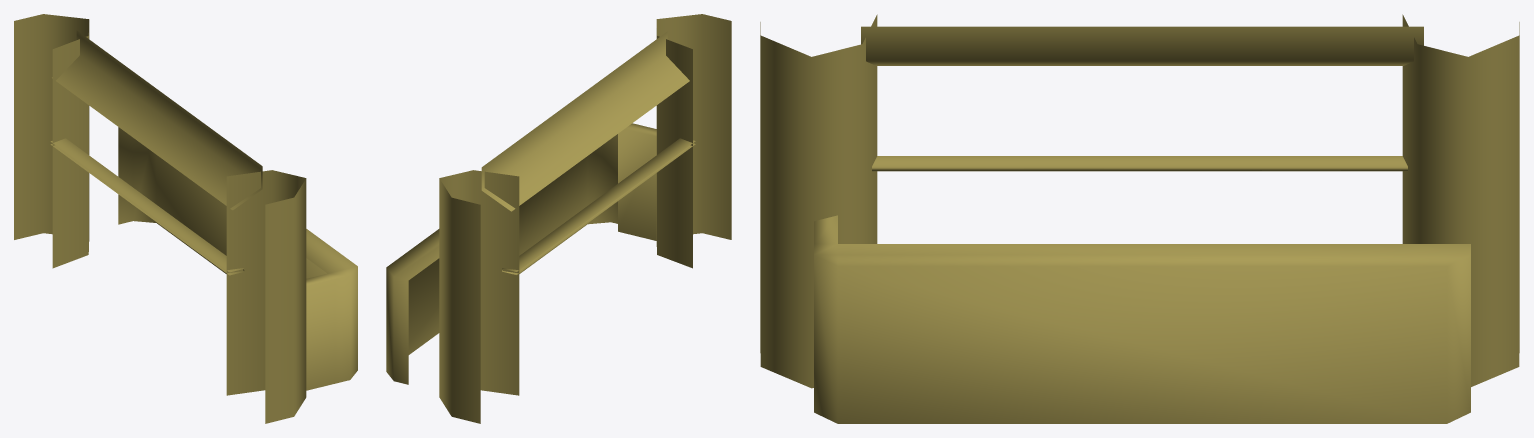
The model's file is bar.dae.
3 views of the same model, side by side, from view 1: azimuth 30°, elevation 25°; view 2: azimuth 150°, elevation 25°; view 3: azimuth 270°, elevation 25° (orthographic). The views are drawn at different scales.
Parts seen in each view (by area): view 1: bar; view 2: bar; view 3: bar.
Boxes of the visible parts, x1,y1,x2,y2 form: bar: (14,14,357,423); bar: (386,14,731,423); bar: (760,14,1519,423).
Size of the model in its own units: 20.14 by 74 by 36.71.
